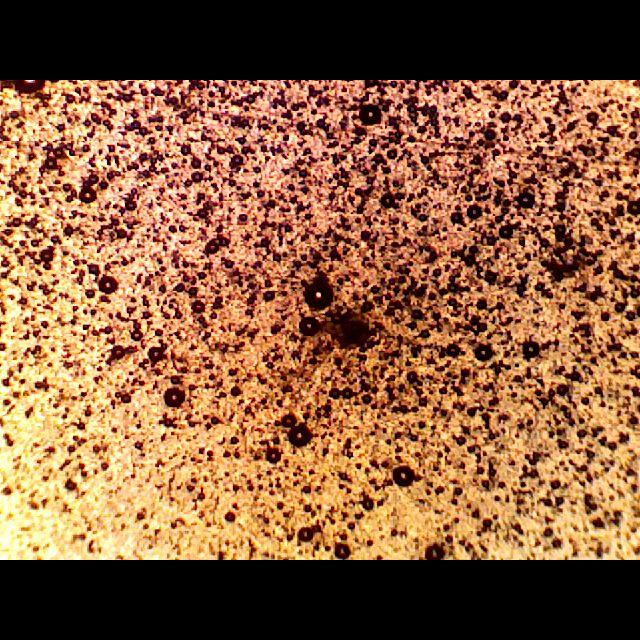microbeads: (297, 272, 337, 312)
